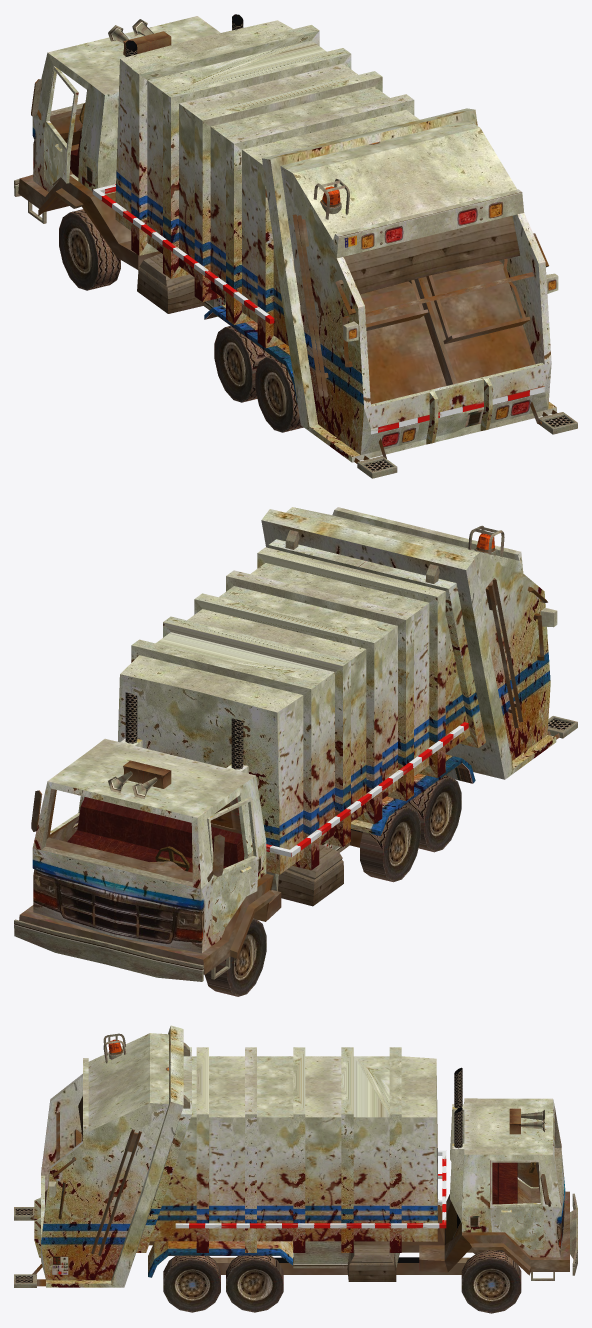
3 views of the same model, one above another, from view 1: azimuth 30°, elevation 25°; view 2: azimuth 150°, elevation 25°; view 3: azimuth 270°, elevation 25° (orthographic). The views are drawn at different scales.
Visible parts, largest first — view 1: static_truck • Mat_Garbagetruck; view 2: static_truck • Mat_Garbagetruck; view 3: static_truck • Mat_Garbagetruck.
Part boxes in pixels (<box>): static_truck • Mat_Garbagetruck: <box>14,14,577,478</box>; static_truck • Mat_Garbagetruck: <box>14,507,577,996</box>; static_truck • Mat_Garbagetruck: <box>14,1025,577,1313</box>.
Size of the model in its own units: 3.08 by 3.98 by 9.3.
1 material, 1 textured.
